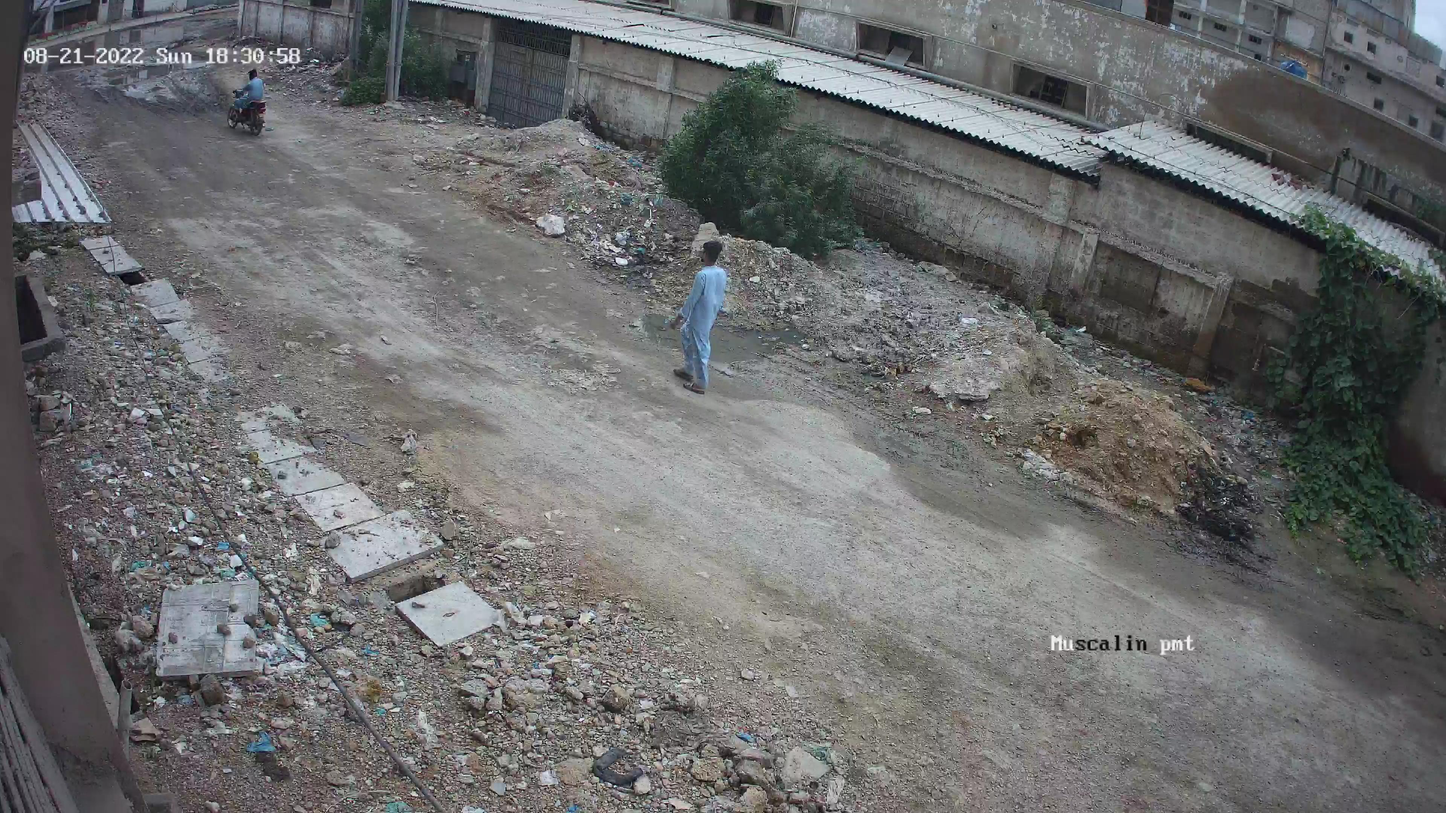person: (678, 239, 732, 401), (225, 69, 282, 104)
